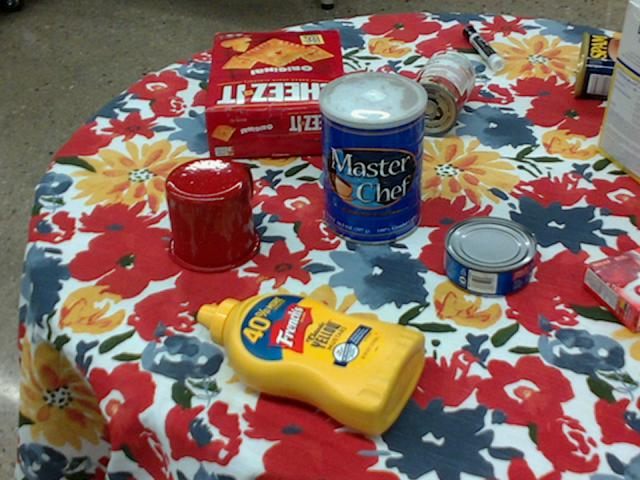cracker_box: (204, 30, 350, 156)
gelatin_box: (585, 248, 639, 332)
large_marker: (465, 25, 505, 69)
master_chef_can: (317, 70, 426, 245)
mug: (163, 156, 261, 273)
mustard_bottle: (197, 291, 427, 434)
potted_meat_can: (574, 29, 639, 100)
sugar_box: (597, 0, 639, 183)
tomato_soup_can: (403, 48, 475, 135)
tuna_fish_can: (445, 216, 539, 297)
